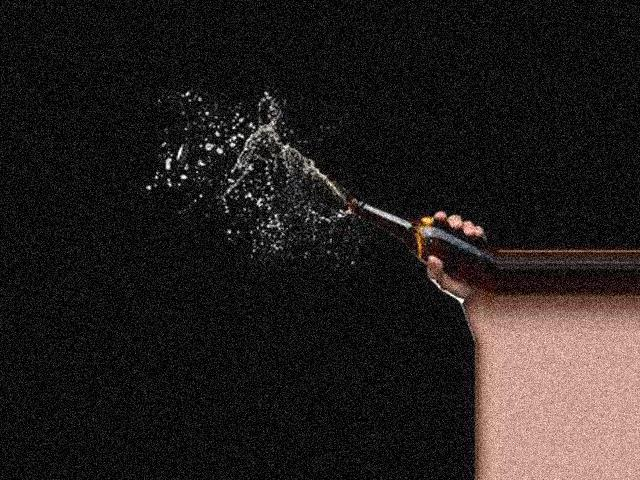beer: (350, 196, 499, 298)
